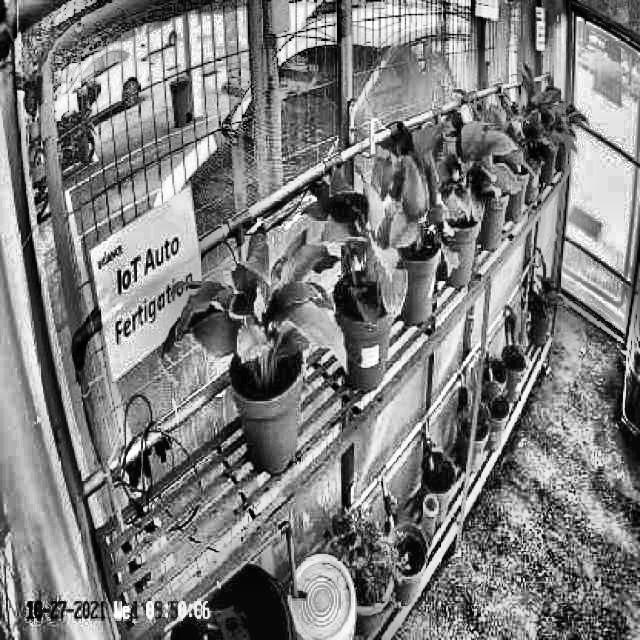plants: (164, 219, 350, 395), (302, 169, 410, 323), (368, 121, 460, 277), (421, 100, 516, 228)
